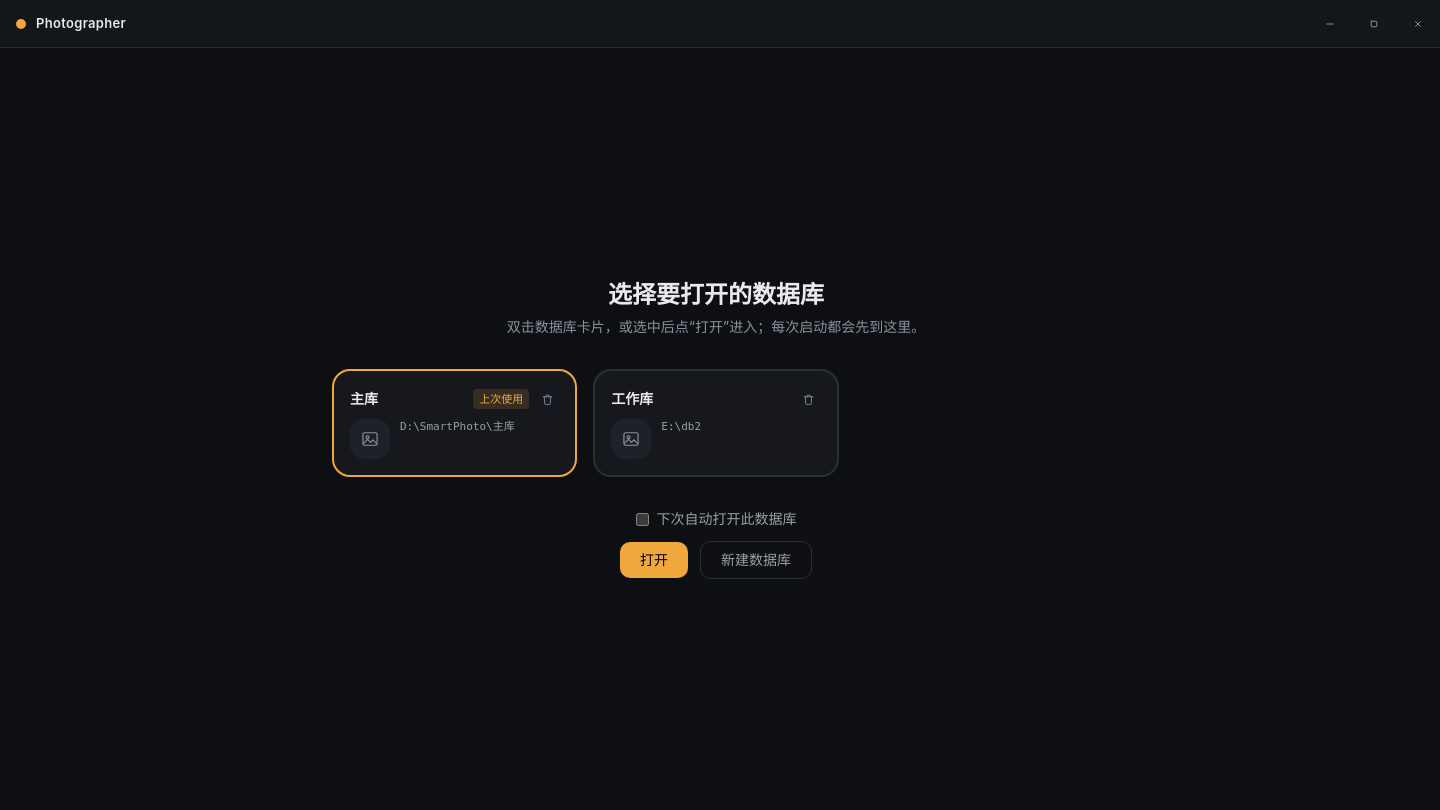
Test: DatabasePickerPage（达芬奇式启动首屏） › 卡片垃圾桶打开删除对话框（仅摘登记 / 连数据目录删两档）
The image size is (1440, 810).
Click the 1st button with test id "database-picker-delete". click: (547, 399)
box: [535, 387, 559, 411]
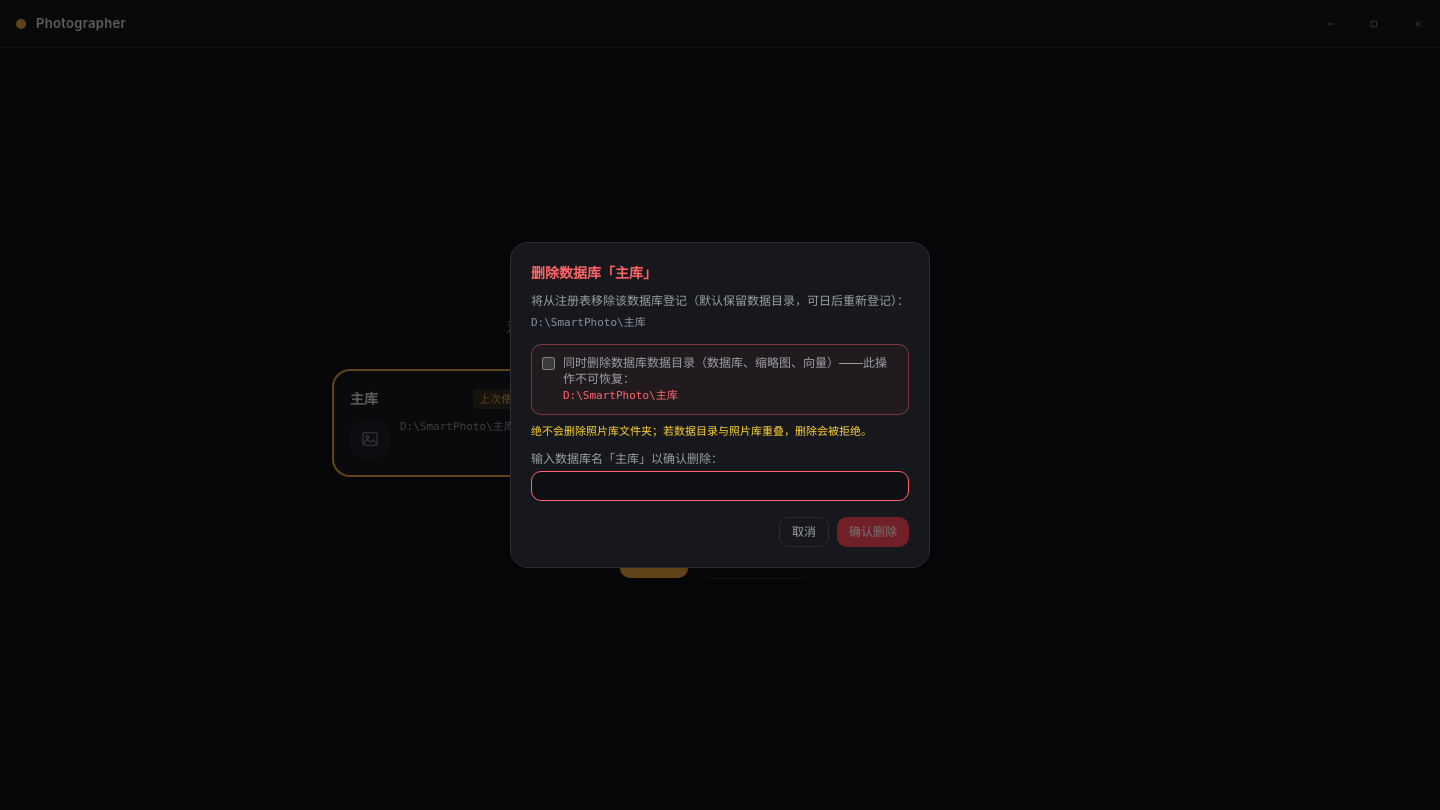
Expected: the element with test id "delete-database-dialog" is shown
Type "主库" into the field with test id "delete-database-input". click: (720, 486)
box: [531, 471, 909, 501]
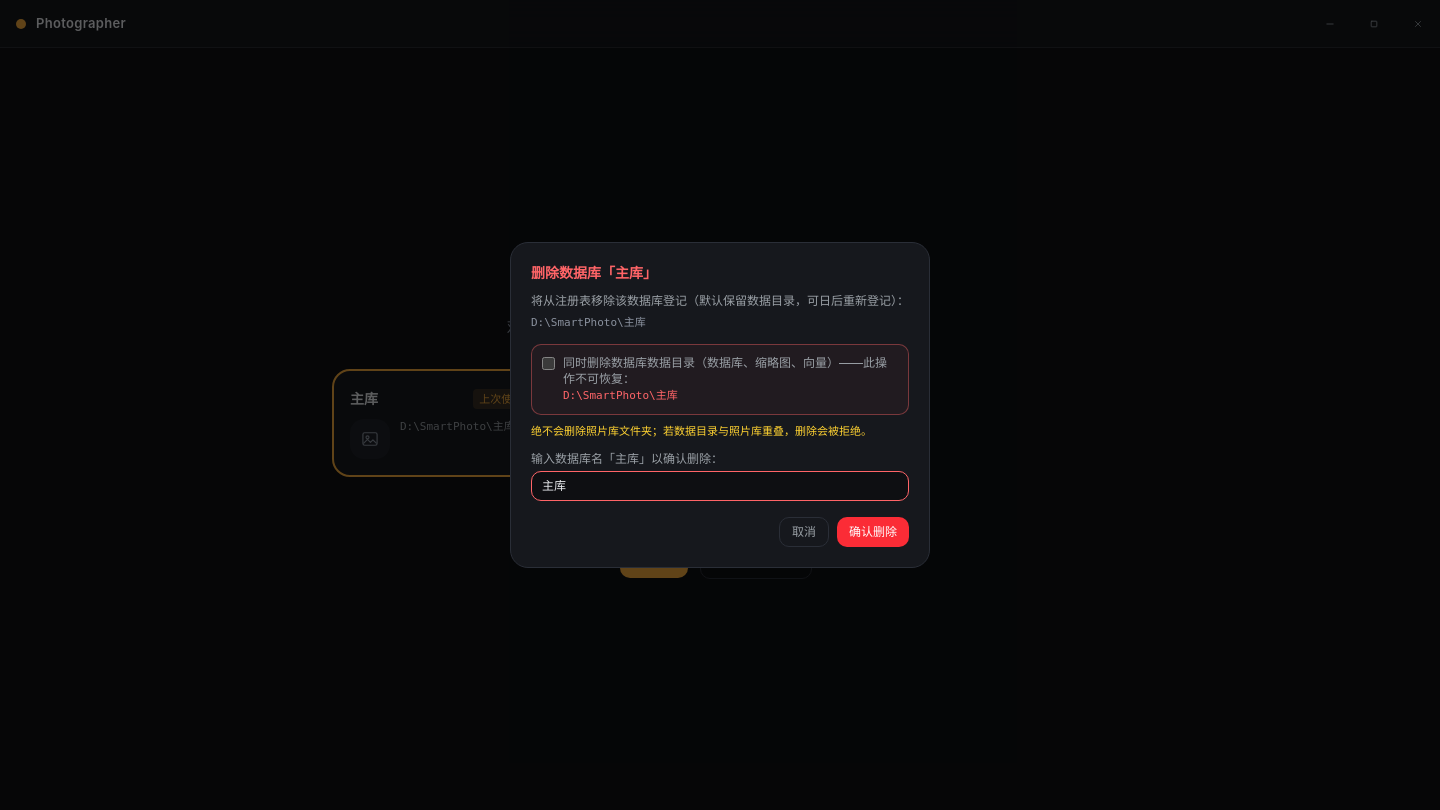
Click the button with test id "delete-database-confirm". click: (873, 532)
box: [837, 517, 909, 547]
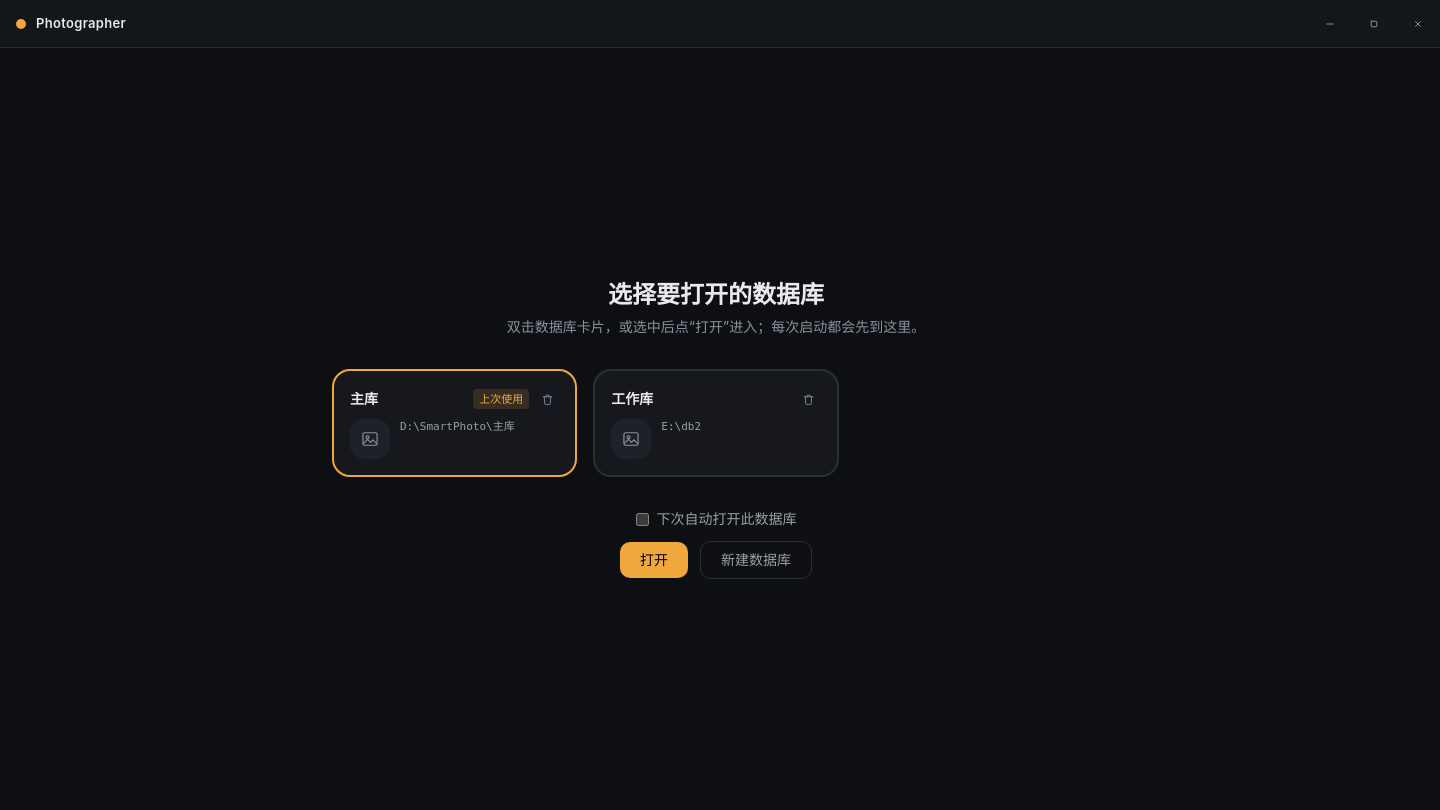
Expected: the element with test id "delete-database-dialog" is gone
